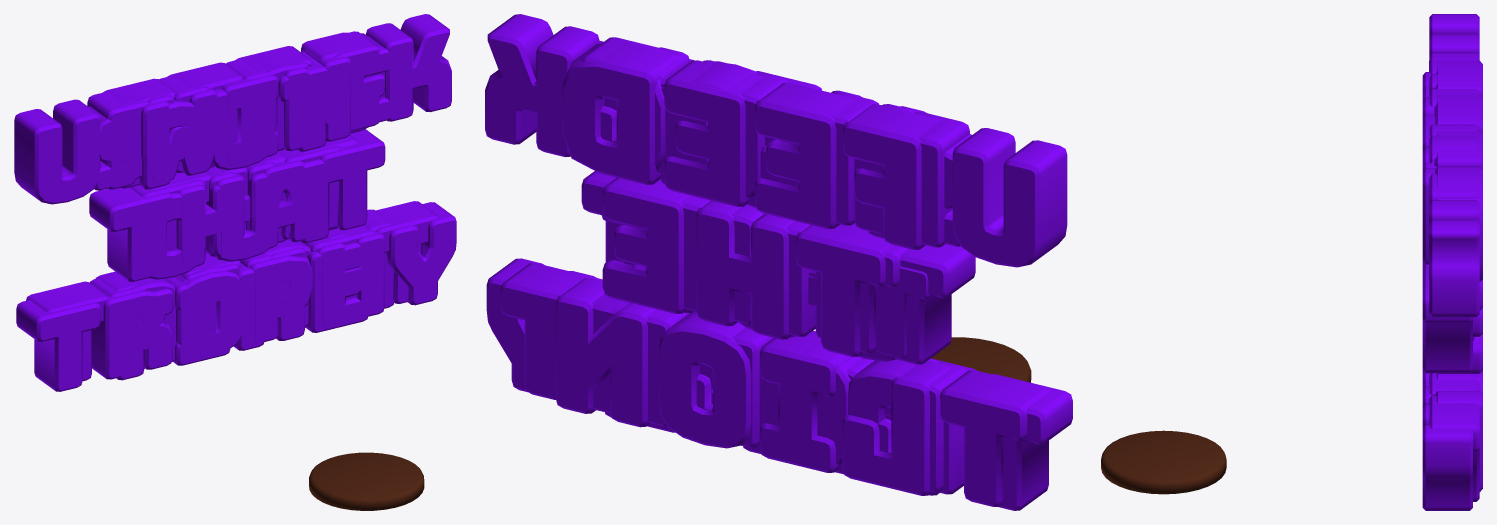
Rendered from Lion.glb.
3 views of the same model, side by side, from view 1: azimuth 30°, elevation 25°; view 2: azimuth 150°, elevation 25°; view 3: azimuth 270°, elevation 25° (orthographic). The views are drawn at different scales.
Parts seen in each view (by area): view 1: trophy, lock, fire, toilet, lion, net, pedestal; view 2: lion, lock, toilet, trophy, net, pedestal, fire; view 3: lock, trophy, lion, pedestal, toilet.
Boxes of the visible parts, x1,y1,x2,y2 form: trophy: (16, 49, 456, 391); lock: (14, 14, 451, 297); fire: (116, 52, 367, 380); toilet: (26, 33, 438, 381); lion: (95, 32, 393, 308); net: (88, 36, 391, 368); pedestal: (309, 452, 424, 510); lion: (555, 42, 951, 495); lock: (485, 14, 1067, 492); toilet: (500, 39, 1050, 506); trophy: (486, 47, 1072, 510); net: (575, 41, 971, 447); pedestal: (931, 337, 1031, 382); fire: (605, 59, 939, 495); lock: (1429, 14, 1479, 395); trophy: (1422, 72, 1472, 510); lion: (1434, 60, 1482, 491); pedestal: (1101, 430, 1226, 494); toilet: (1429, 52, 1479, 501).
Bounding box in the file's own units: 2.84 × 2.06 × 2.06.
